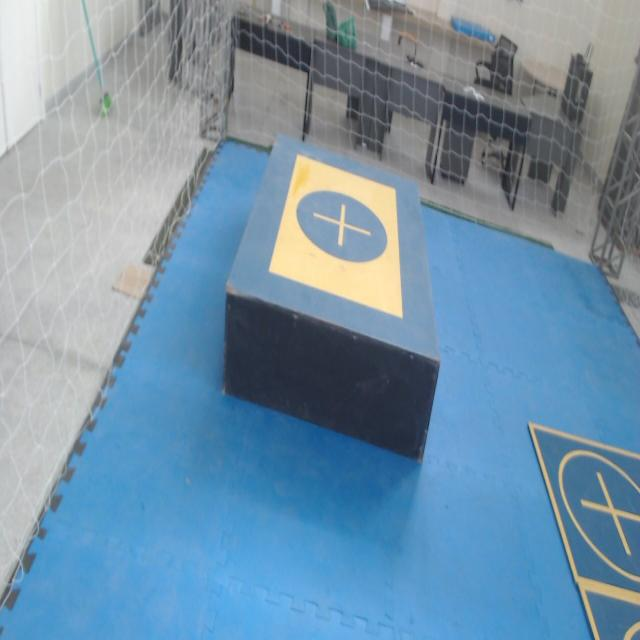base_inicio: (269, 154, 403, 319)
base_pouso: (528, 422, 640, 595), (577, 582, 640, 638)
